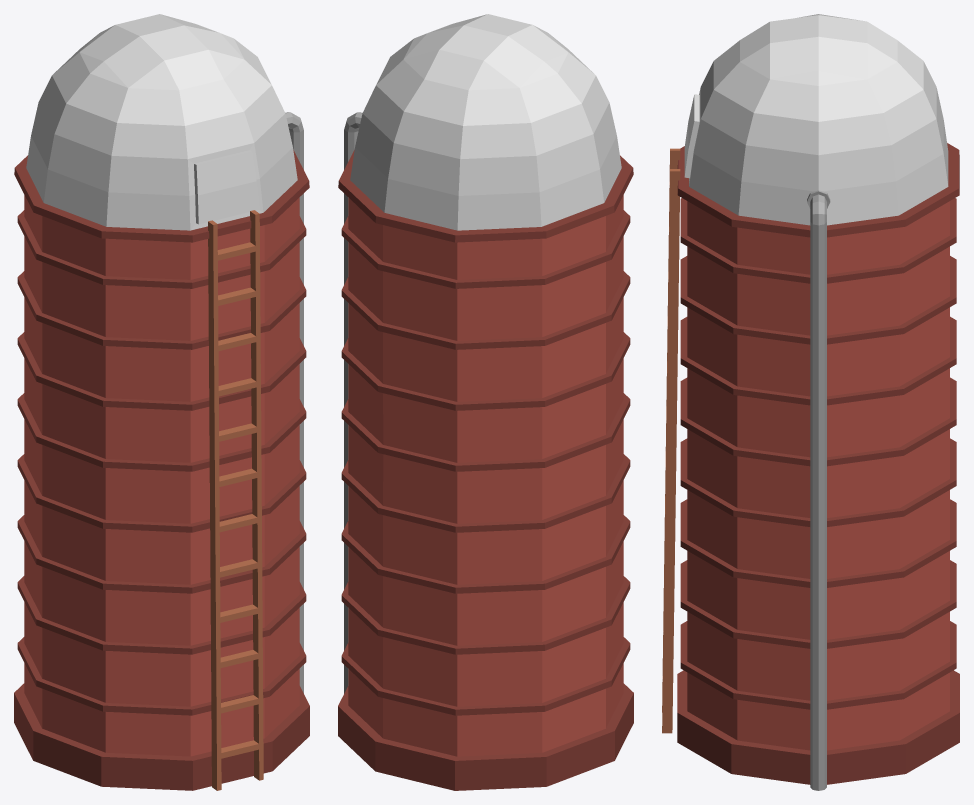
Rendered from Silo.fbx.
3 views of the same model, side by side, from view 1: azimuth 30°, elevation 25°; view 2: azimuth 150°, elevation 25°; view 3: azimuth 270°, elevation 25° (orthographic).
Visible parts, largest first — view 1: Silo; view 2: Silo; view 3: Silo.
Part boxes in pixels (x1,y1,x2,y2): Silo: (14, 14, 309, 790); Silo: (338, 14, 633, 790); Silo: (662, 14, 959, 790).
Bounding box in the file's own units: 367 × 907 × 351.
